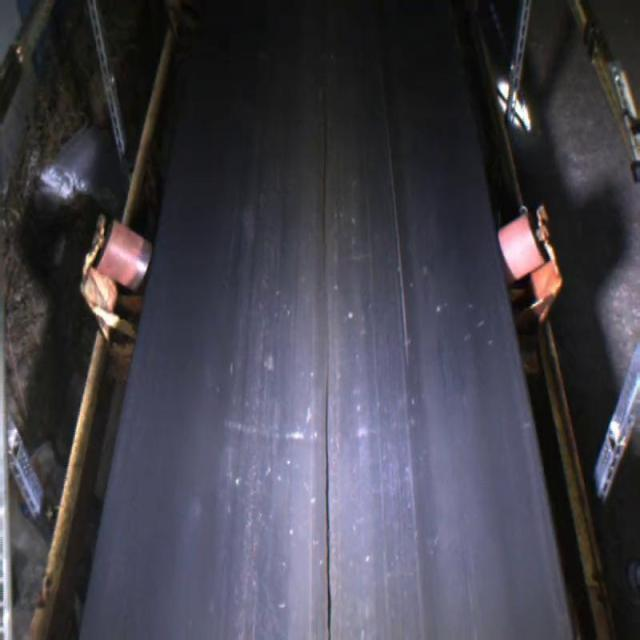Tear: (318, 360, 337, 640)
